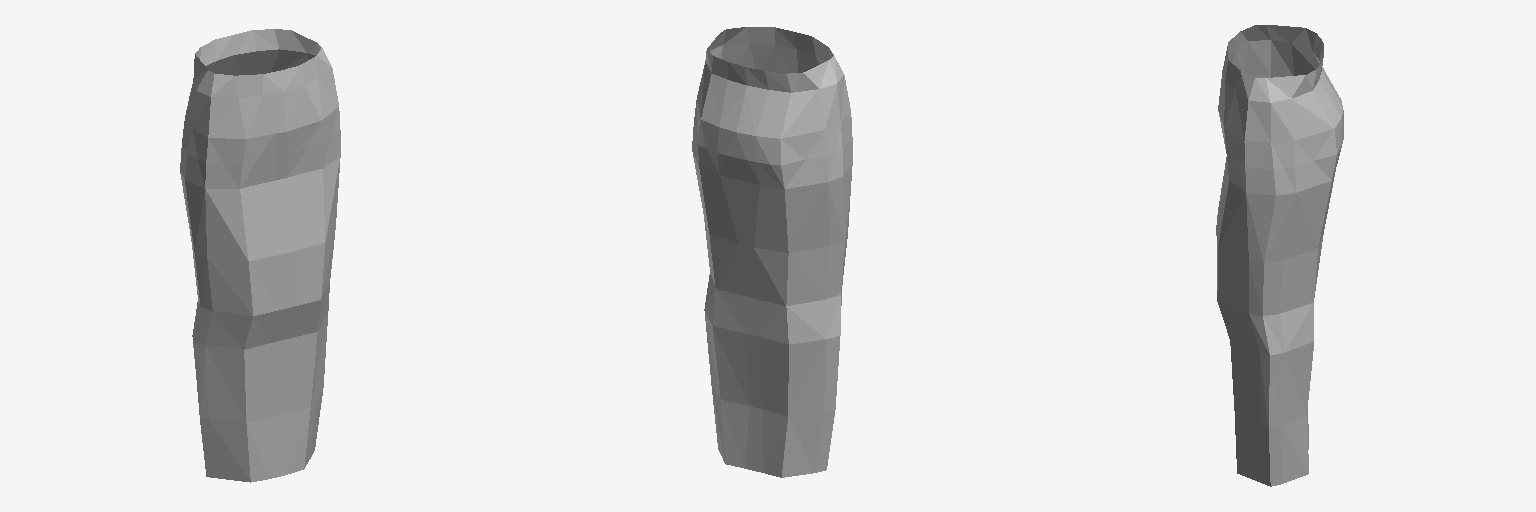
Rendered from avatar_skirt-skirt_male.obj.
3 views of the same model, side by side, from view 1: azimuth 30°, elevation 25°; view 2: azimuth 150°, elevation 25°; view 3: azimuth 270°, elevation 25° (orthographic).
Parts seen in each view (by area): view 1: g1_avatar_skirt; view 2: g1_avatar_skirt; view 3: g1_avatar_skirt.
Boxes of the visible parts, x1,y1,x2,y2 form: g1_avatar_skirt: [180, 29, 340, 482]; g1_avatar_skirt: [692, 27, 852, 477]; g1_avatar_skirt: [1216, 25, 1343, 486].
Size of the model in its own units: 0.4198 by 1.12 by 0.3149.